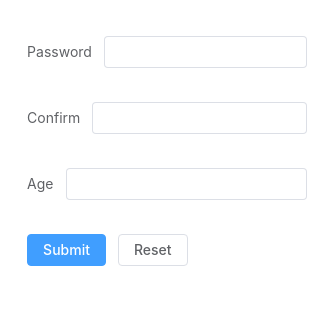
Test: should render the form and handle validation
Expected: the password field with test id "checkPass" is shown, [103,103,296,133]
Expected: the field with test id "age" is shown, [76,169,296,199]
// 填寫表單，驗證通過
Type "password123" into the password field with test id "pass".
click(205, 52); type("password123")  # box [115,37,296,67]
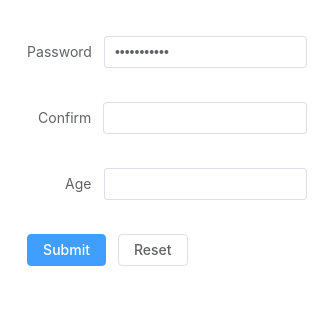
Type "password123" into the password field with test id "checkPass".
click(205, 118); type("password123")  # box [114,103,296,133]
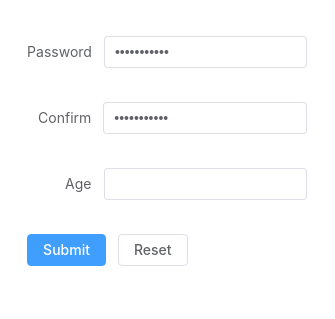
Type "25" into the field with test id "age".
click(205, 184); type("25")  # box [114,169,296,199]
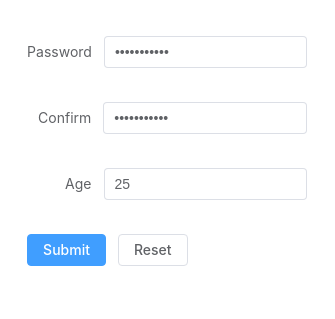
Click the button with test id "submit".
click(67, 250)  # box [27,234,106,266]
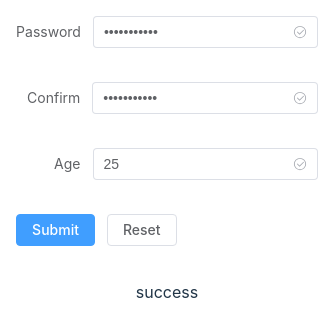
Now the text with test id "result" reads "success", box [136,282,198,302]
